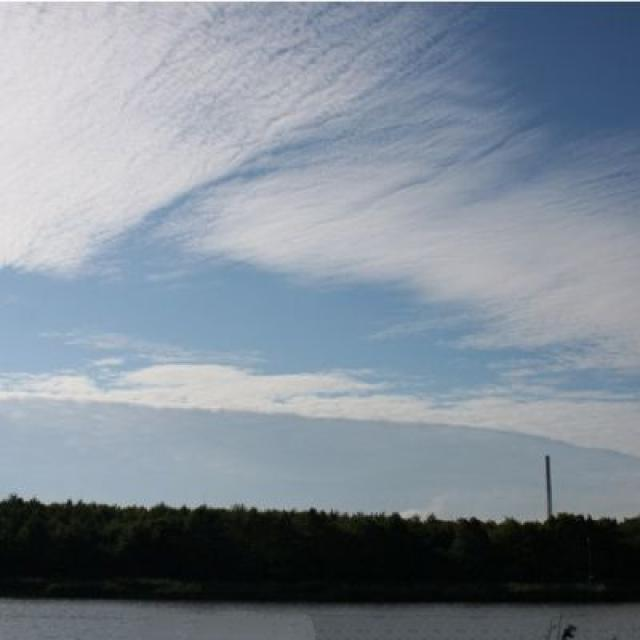Cc: (6, 1, 639, 374)
